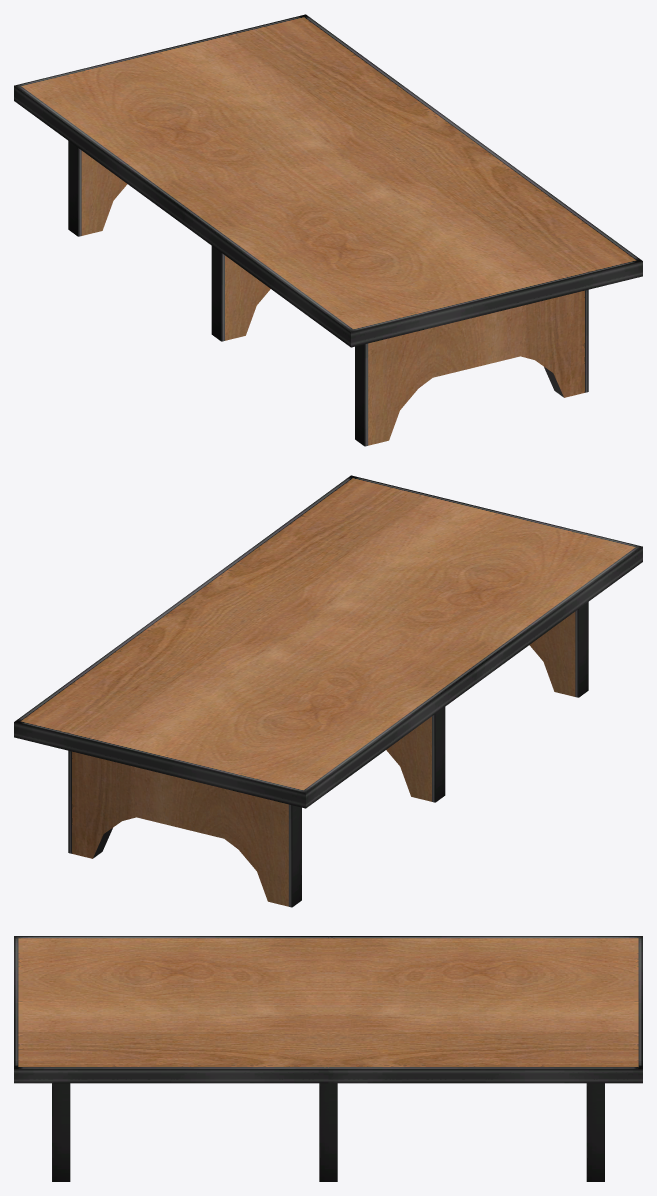
Rendered from conference.fbx.
The picture shows the model from 3 angles, top to bottom: view 1: azimuth 30°, elevation 25°; view 2: azimuth 150°, elevation 25°; view 3: azimuth 270°, elevation 25°; orthographic projection. The views are drawn at different scales.
Visible parts, largest first — view 1: mesh_0; view 2: mesh_0; view 3: mesh_0.
Boxes of the visible parts, x1=… form: mesh_0: x1=14, y1=14, x2=642, y2=446; mesh_0: x1=14, y1=475, x2=642, y2=907; mesh_0: x1=14, y1=936, x2=642, y2=1181.
Size of the model in its own units: 200 by 90 by 400.
1 material, 1 textured.
